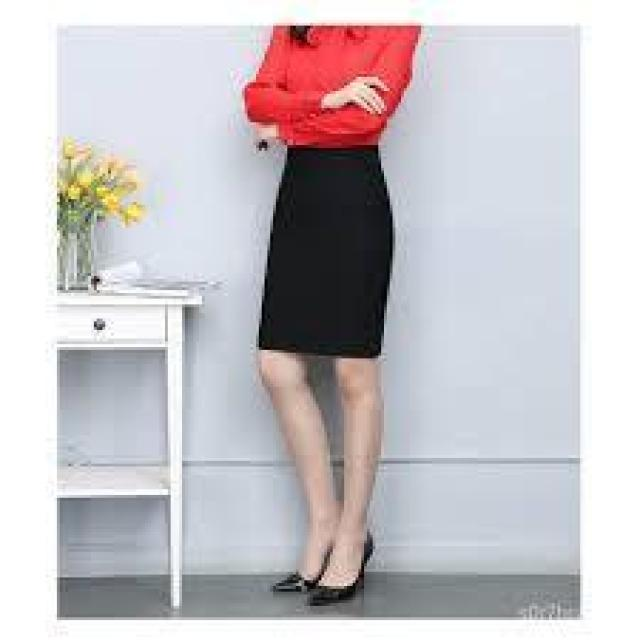shirt: (249, 21, 411, 144)
skirt: (253, 145, 393, 367)
